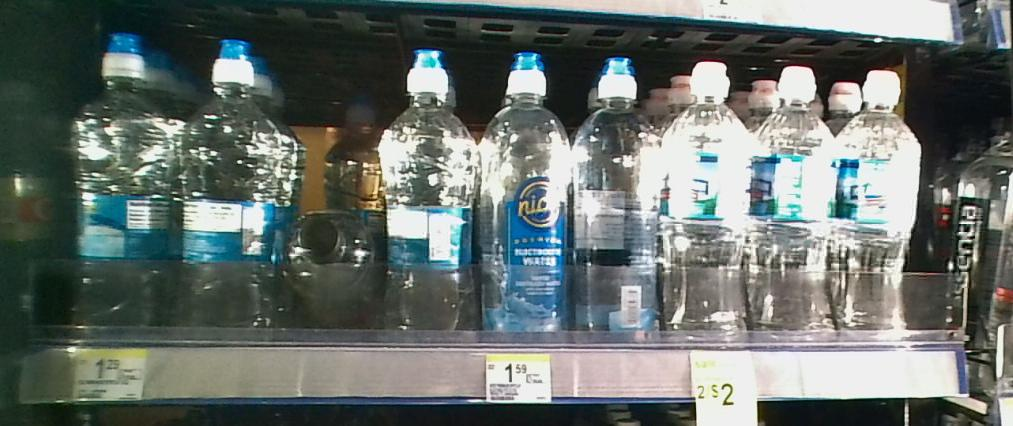bottle: (68, 29, 173, 333), (177, 34, 278, 331), (381, 45, 477, 342), (481, 48, 572, 341), (576, 51, 665, 340), (669, 61, 750, 338), (841, 70, 921, 339), (756, 65, 833, 337), (288, 195, 366, 307)
